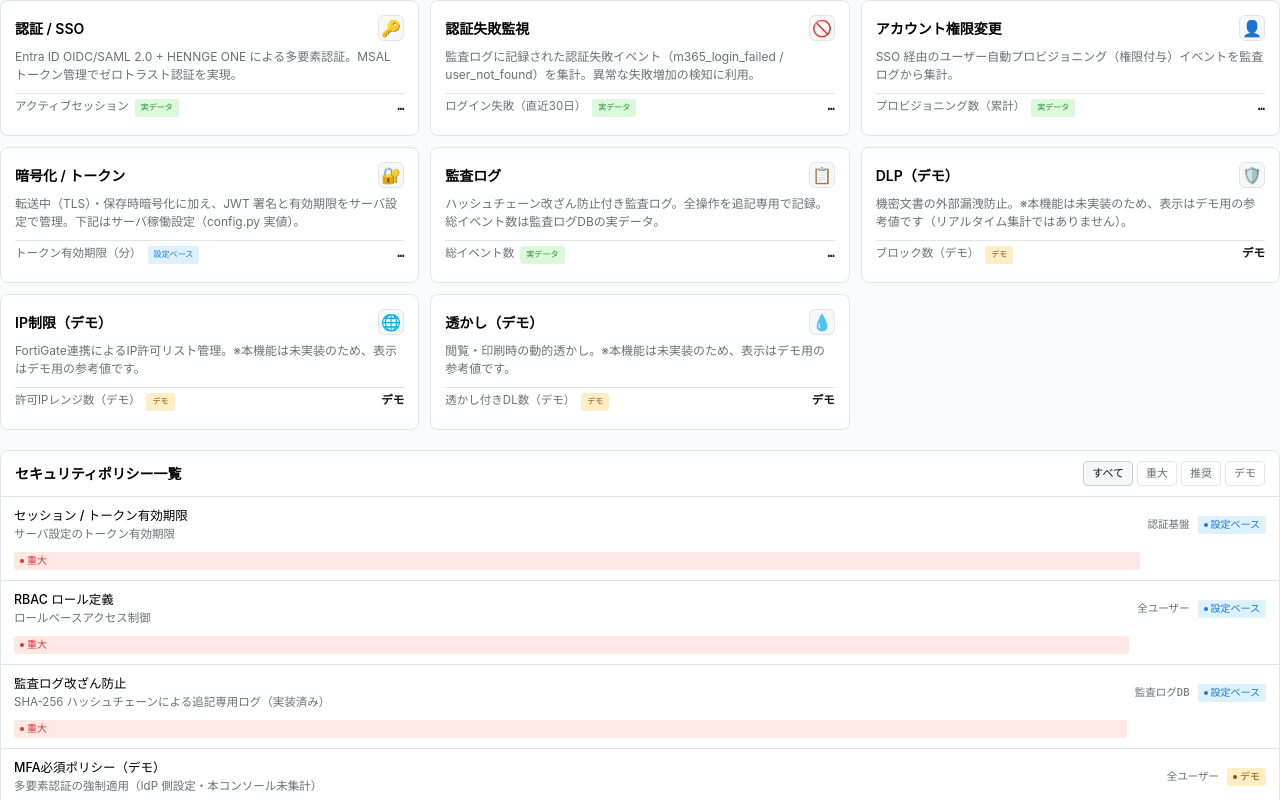
Test: SecurityView › filters the policy list to demo-only when the デモ pill is clicked
Expected: the text "RBAC ロール定義" is shown, [14,592,114,606]
Click the button "デモ": (1245, 473) [1225,461,1265,486]
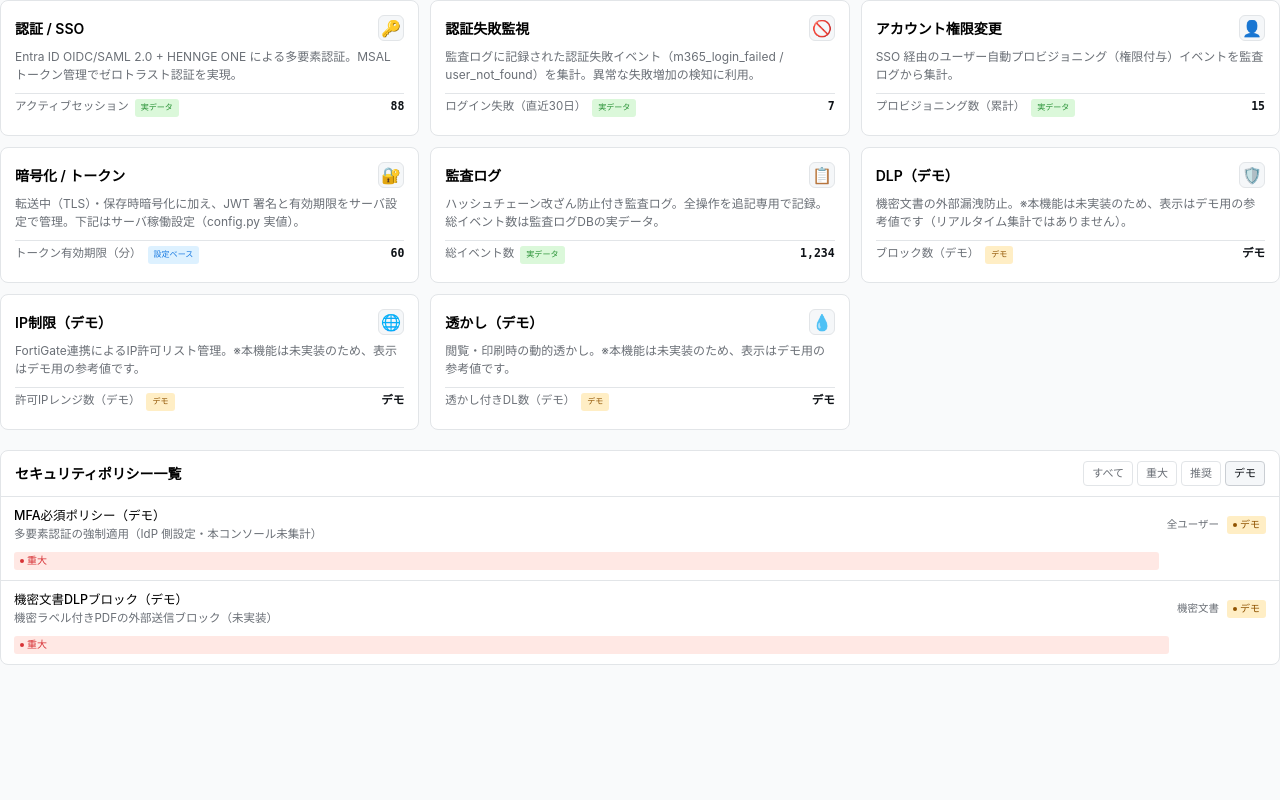
Expected: the text "MFA必須ポリシー（デモ）" is shown, [14,508,166,522]
Now the button "RBAC ロール定義" is gone
